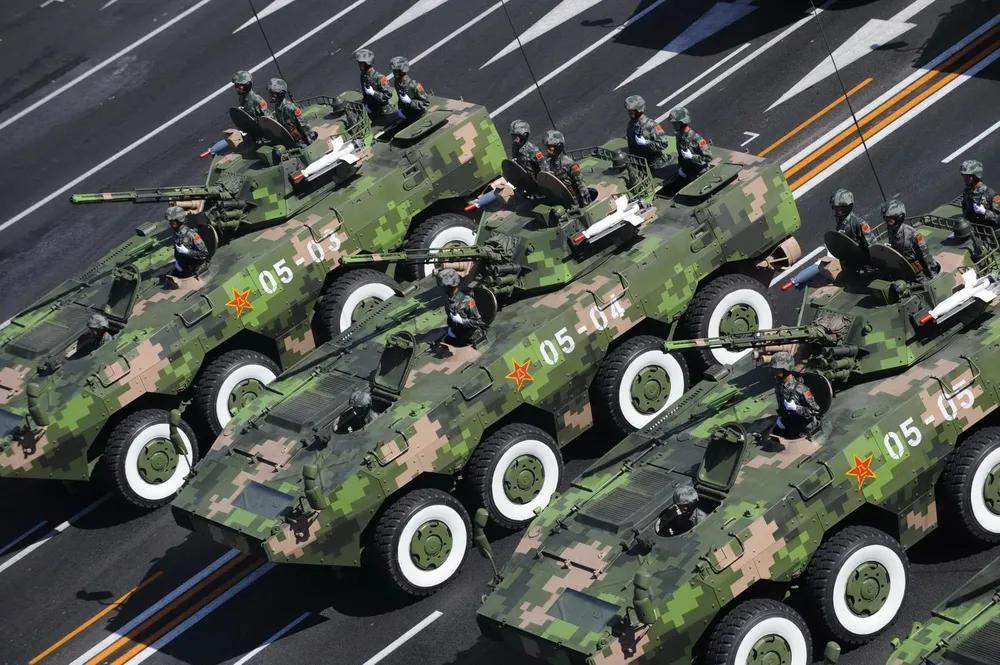MIL_IFV: (172, 108, 808, 596), (474, 154, 1000, 662), (3, 46, 505, 508)
